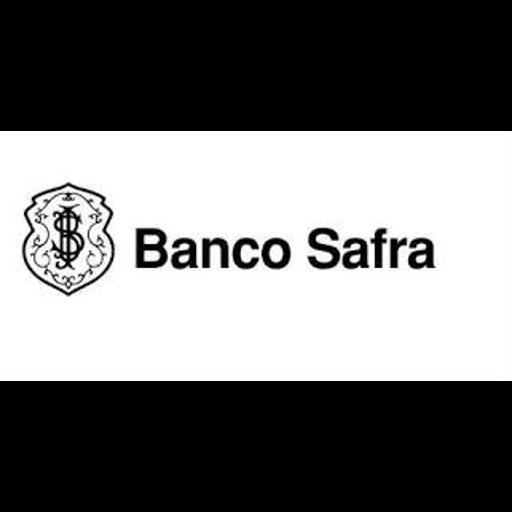Banco Safra: (0, 131, 512, 381)
